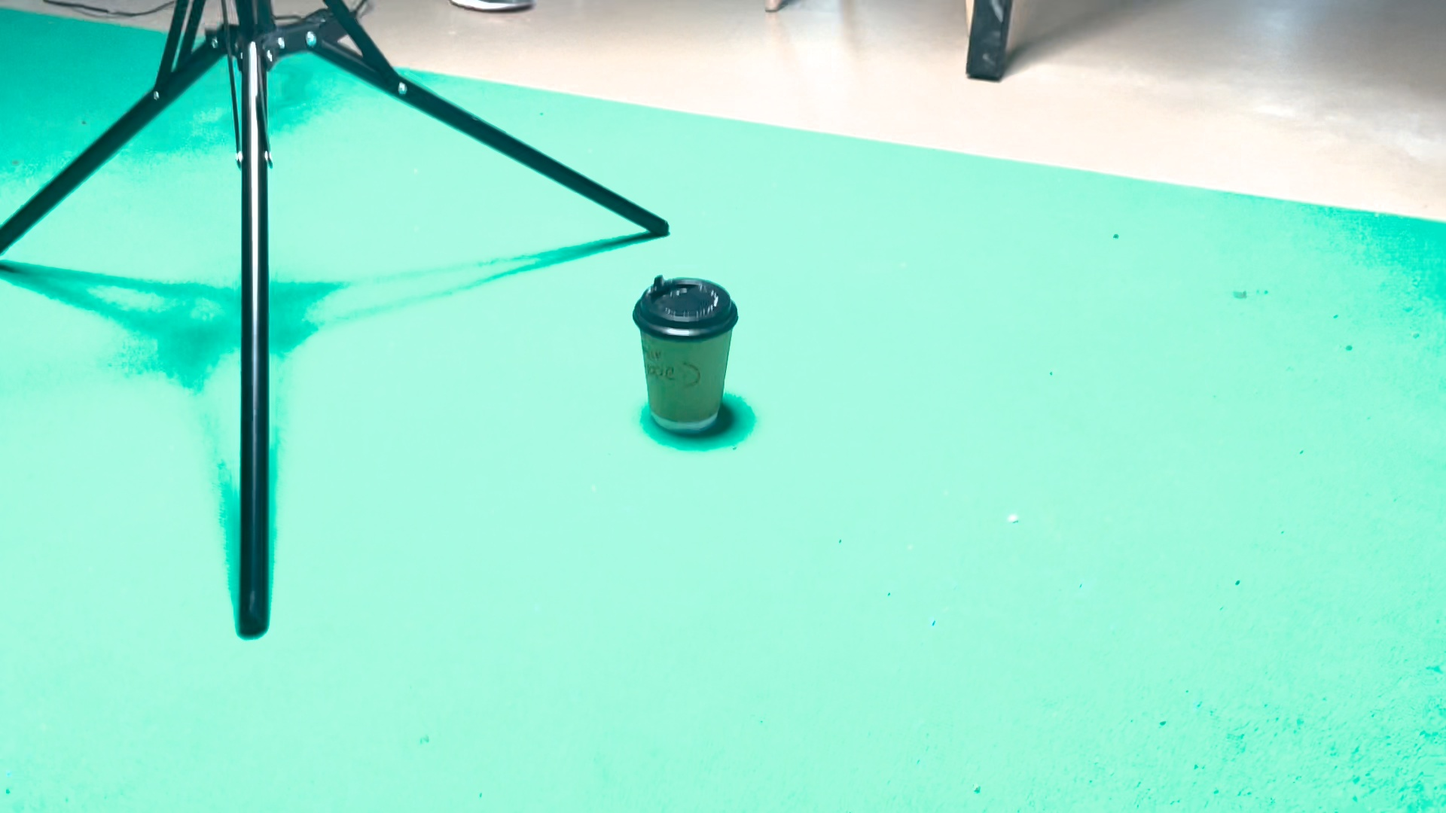cup: (686, 431, 801, 596)
